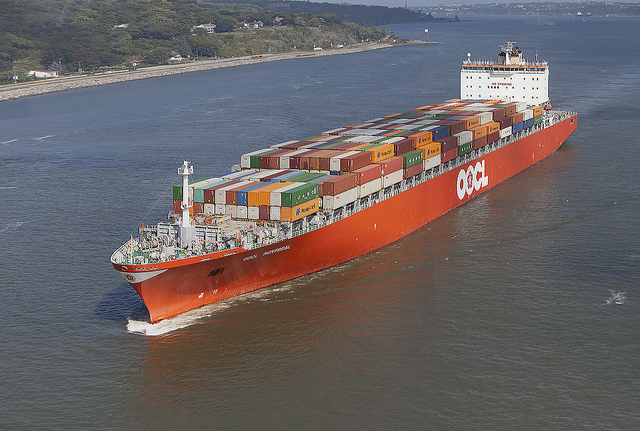container_ship: (110, 41, 579, 332)
